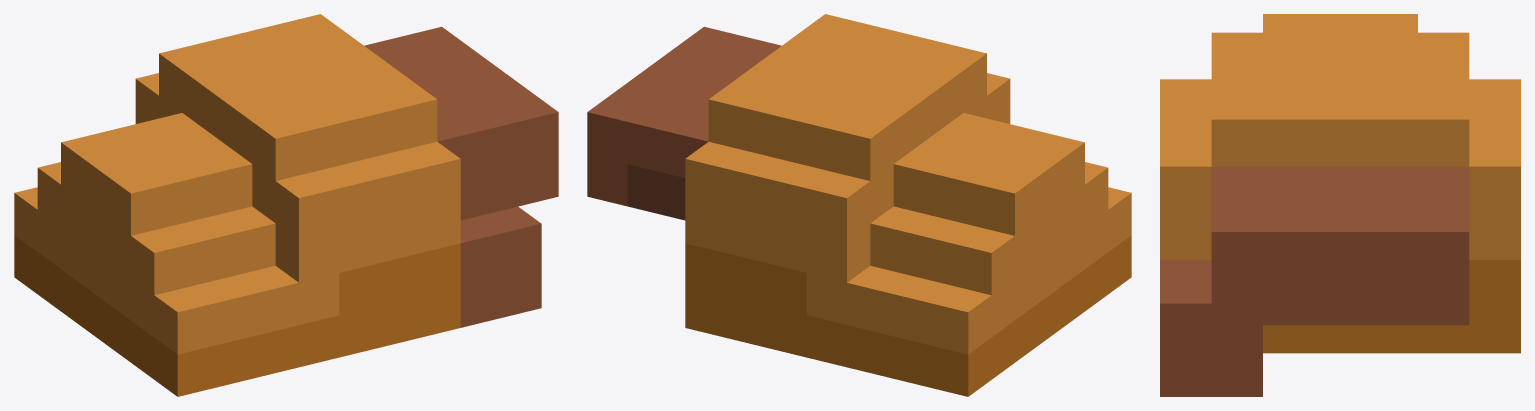
The model's file is MChemistArmLowerL.fbx.
3 views of the same model, side by side, from view 1: azimuth 30°, elevation 25°; view 2: azimuth 150°, elevation 25°; view 3: azimuth 270°, elevation 25° (orthographic). The views are drawn at different scales.
Parts seen in each view (by area): view 1: ChemistArms; view 2: ChemistArms; view 3: ChemistArms.
Part boxes in pixels (box(x1,y1,x2,y2)): ChemistArms: box(14, 14, 558, 396); ChemistArms: box(587, 14, 1131, 396); ChemistArms: box(1160, 14, 1520, 396).
Bounding box in the file's own units: 10 × 5 × 7.
1 material, 1 textured.
